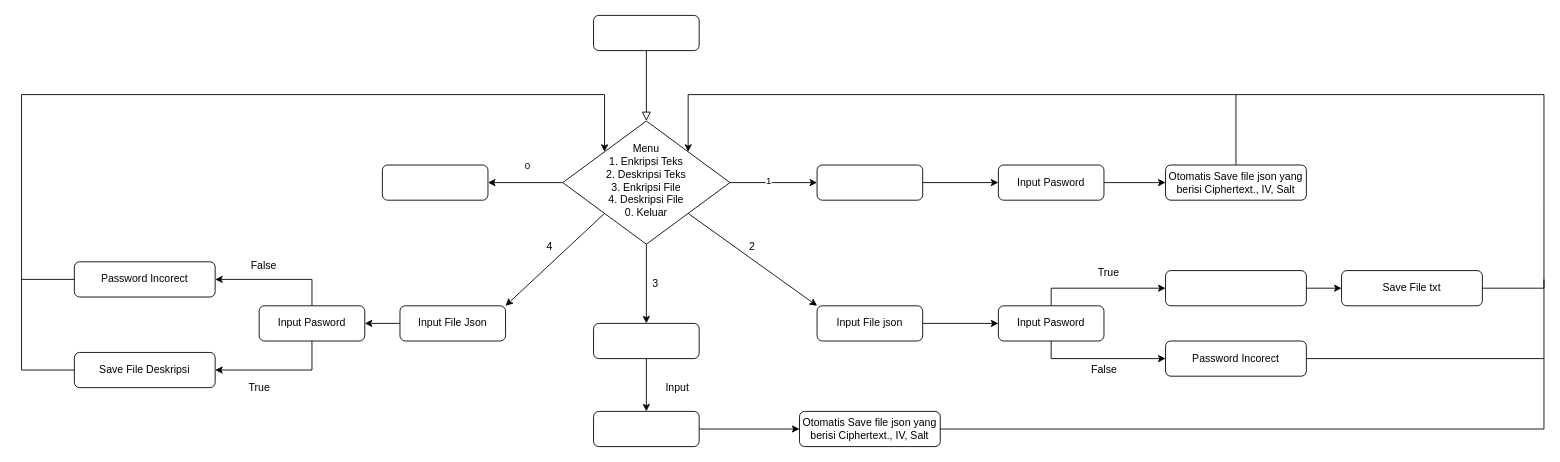
This 1560x462 diagram has some shape labels left out. The centre of each missing label's shape, as x and y in pixels:
"end" goes at pixel 434 182.
"Input File" goes at pixel 646 341.
"Input Password" goes at pixel 646 429.
"Input Teks" goes at pixel 869 182.
"Output Text deskripsi" goes at pixel 1235 288.
"Start" goes at pixel 646 33.
